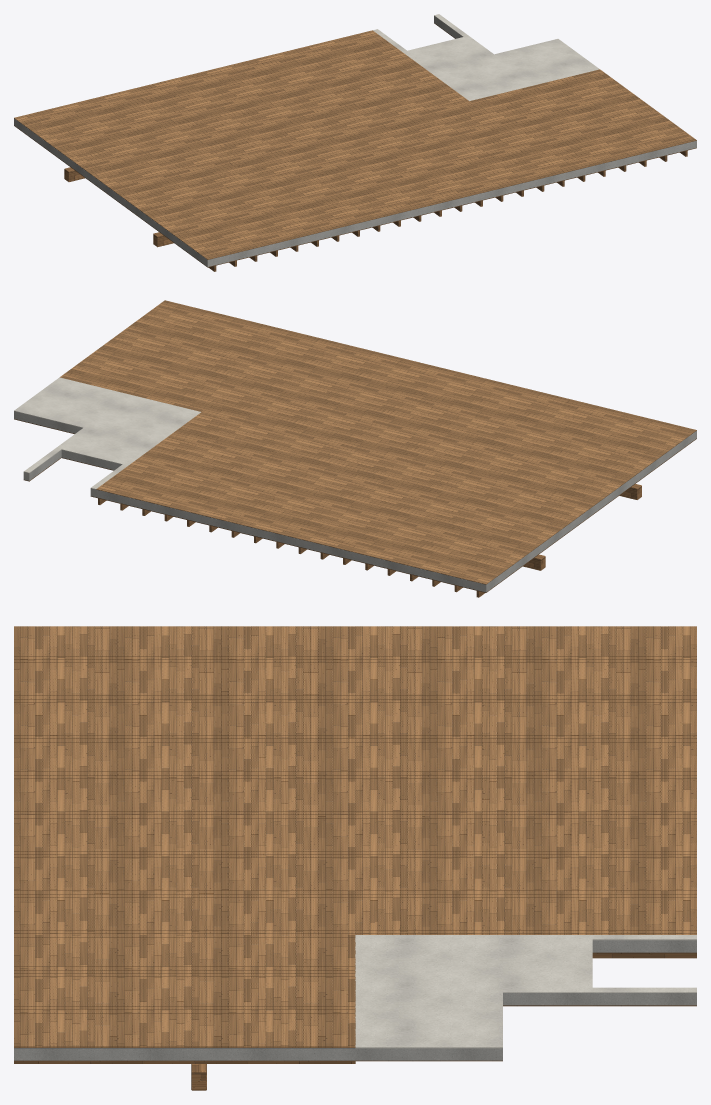
Rendered from slab_storey.glb.
3 renders of one model, top to bottom at view 1: azimuth 30°, elevation 25°; view 2: azimuth 150°, elevation 25°; view 3: azimuth 270°, elevation 25°, orthographic. The views are drawn at different scales.
Parts seen in each view (by area): view 1: slab_storey_floor_w, slab_storey_tile_h, slab_storey_conc_s, slab_storey_timber; view 2: slab_storey_floor_w, slab_storey_tile_h, slab_storey_conc_s, slab_storey_timber; view 3: slab_storey_floor_w, slab_storey_tile_h, slab_storey_conc_s, slab_storey_timber.
Boxes of the visible parts, x1=… form: slab_storey_floor_w: x1=14, y1=30, x2=696, y2=259; slab_storey_tile_h: x1=373, y1=14, x2=599, y2=100; slab_storey_conc_s: x1=14, y1=16, x2=696, y2=266; slab_storey_timber: x1=14, y1=23, x2=696, y2=271; slab_storey_floor_w: x1=60, y1=300, x2=696, y2=584; slab_storey_tile_h: x1=14, y1=377, x2=200, y2=489; slab_storey_conc_s: x1=14, y1=411, x2=696, y2=592; slab_storey_timber: x1=14, y1=419, x2=696, y2=597; slab_storey_floor_w: x1=14, y1=626, x2=696, y2=1047; slab_storey_tile_h: x1=355, y1=935, x2=696, y2=1048; slab_storey_conc_s: x1=14, y1=940, x2=696, y2=1060; slab_storey_timber: x1=14, y1=952, x2=696, y2=1090.
Size of the model in its own units: 19.1 by 0.92 by 13.1.
5 materials, 4 textured.
